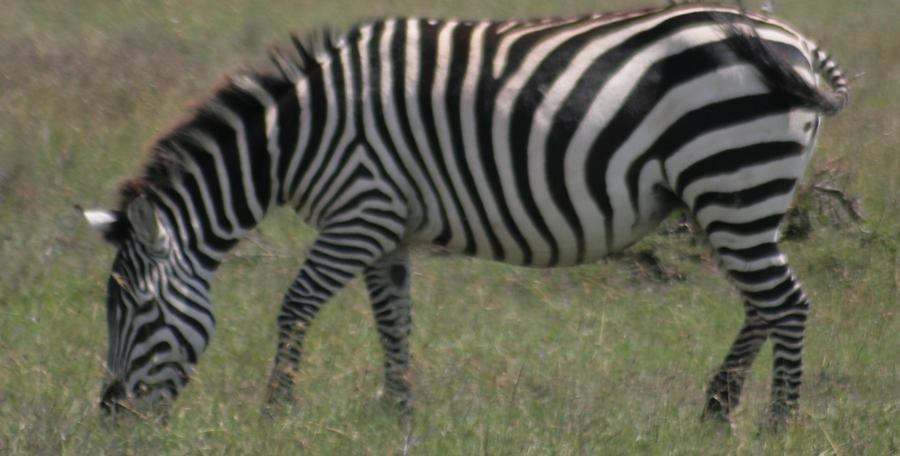zebra_plains: (278, 11, 808, 260)
